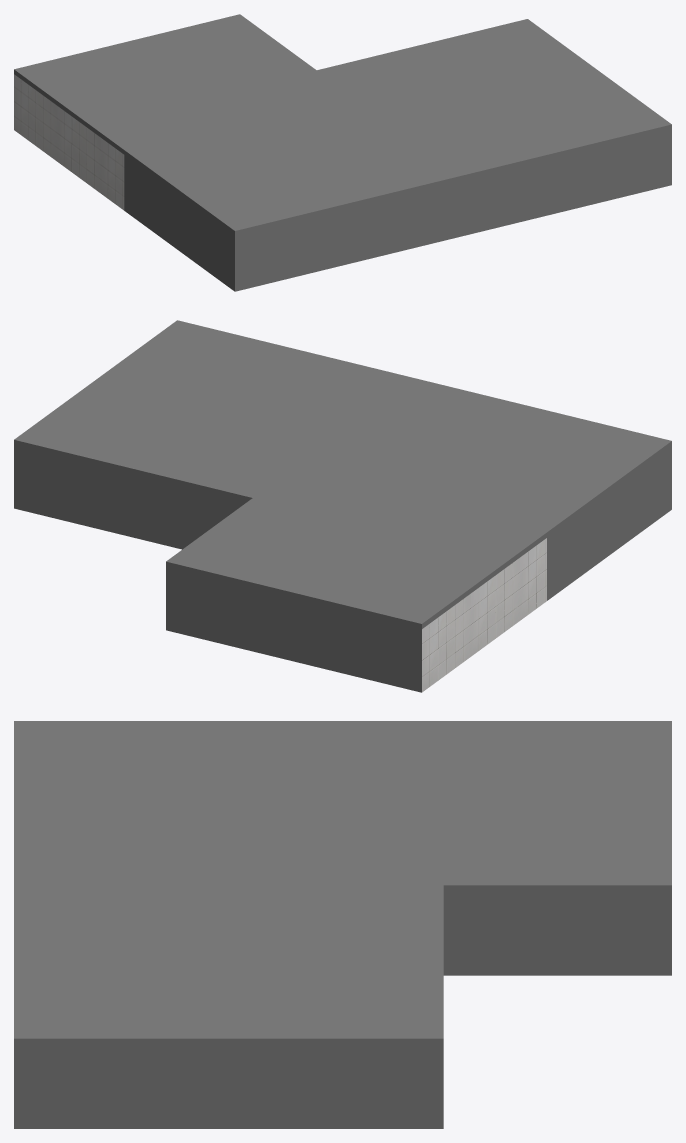
The model's file is Mapa2.fbx.
3 renders of one model, top to bottom at view 1: azimuth 30°, elevation 25°; view 2: azimuth 150°, elevation 25°; view 3: azimuth 270°, elevation 25°, orthographic. The views are drawn at different scales.
Visible parts, largest first — view 1: Box005, Box001; view 2: Box005, Box001; view 3: Box005, Box001.
Part boxes in pixels (x1=…): Box005: x1=14, y1=14, x2=671, y2=235; Box001: x1=14, y1=74, x2=671, y2=291; Box005: x1=14, y1=320, x2=671, y2=629; Box001: x1=14, y1=445, x2=671, y2=692; Box005: x1=14, y1=721, x2=671, y2=1045; Box001: x1=14, y1=892, x2=671, y2=1128.
Bounding box in the file's own units: 15452 × 2066 × 13533.
Materials: 6 (3 with a texture image).
